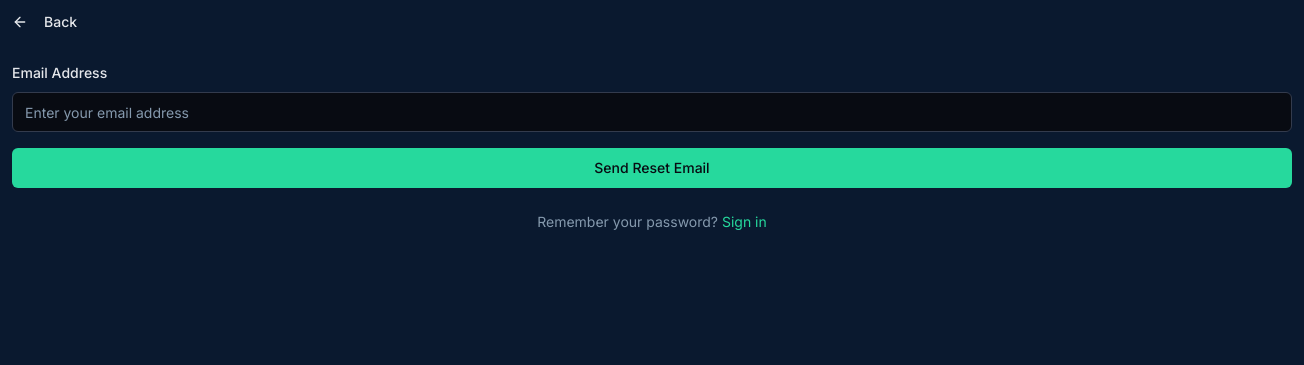
Scenario: PasswordResetForm › Password Reset Request Step › should handle successful reset request
The image size is (1304, 365).
Type "test@example.com" into the field with test id "email-input".
click(652, 112); type("test@example.com")  # box [12,92,1292,132]
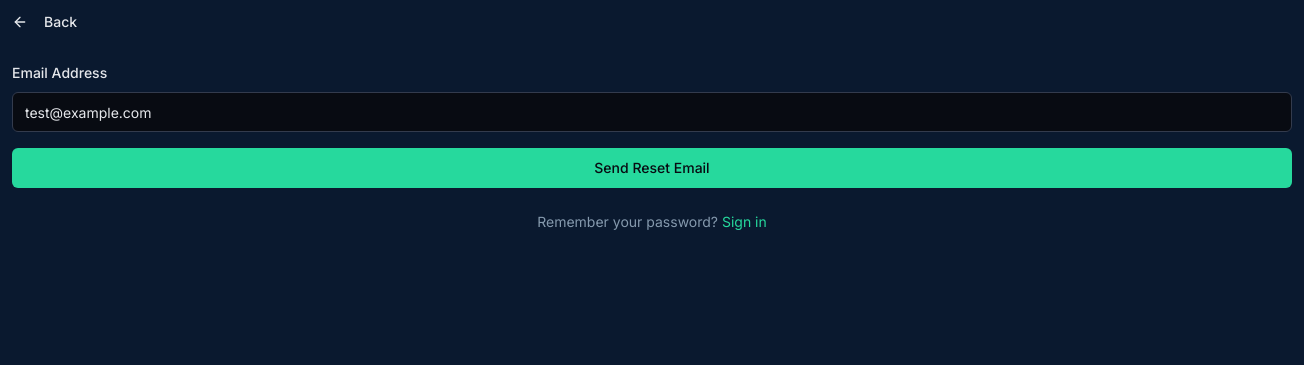
Click the button with test id "send-reset-email-button".
click(652, 168)  # box [12,148,1292,188]
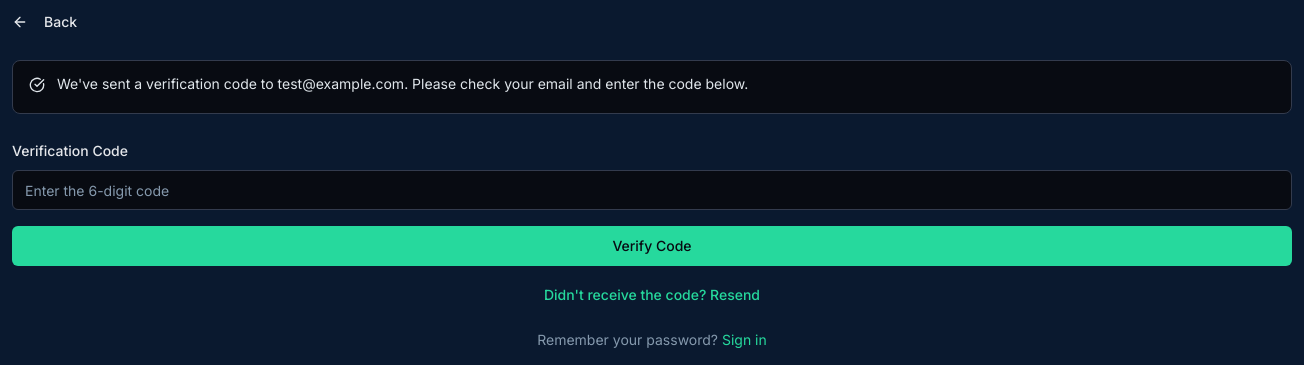
Expected: the message with test id "email-sent-alert" is shown, [12,60,1292,114]
Expected: the field with test id "verification-code-input" is shown, [12,170,1292,210]
